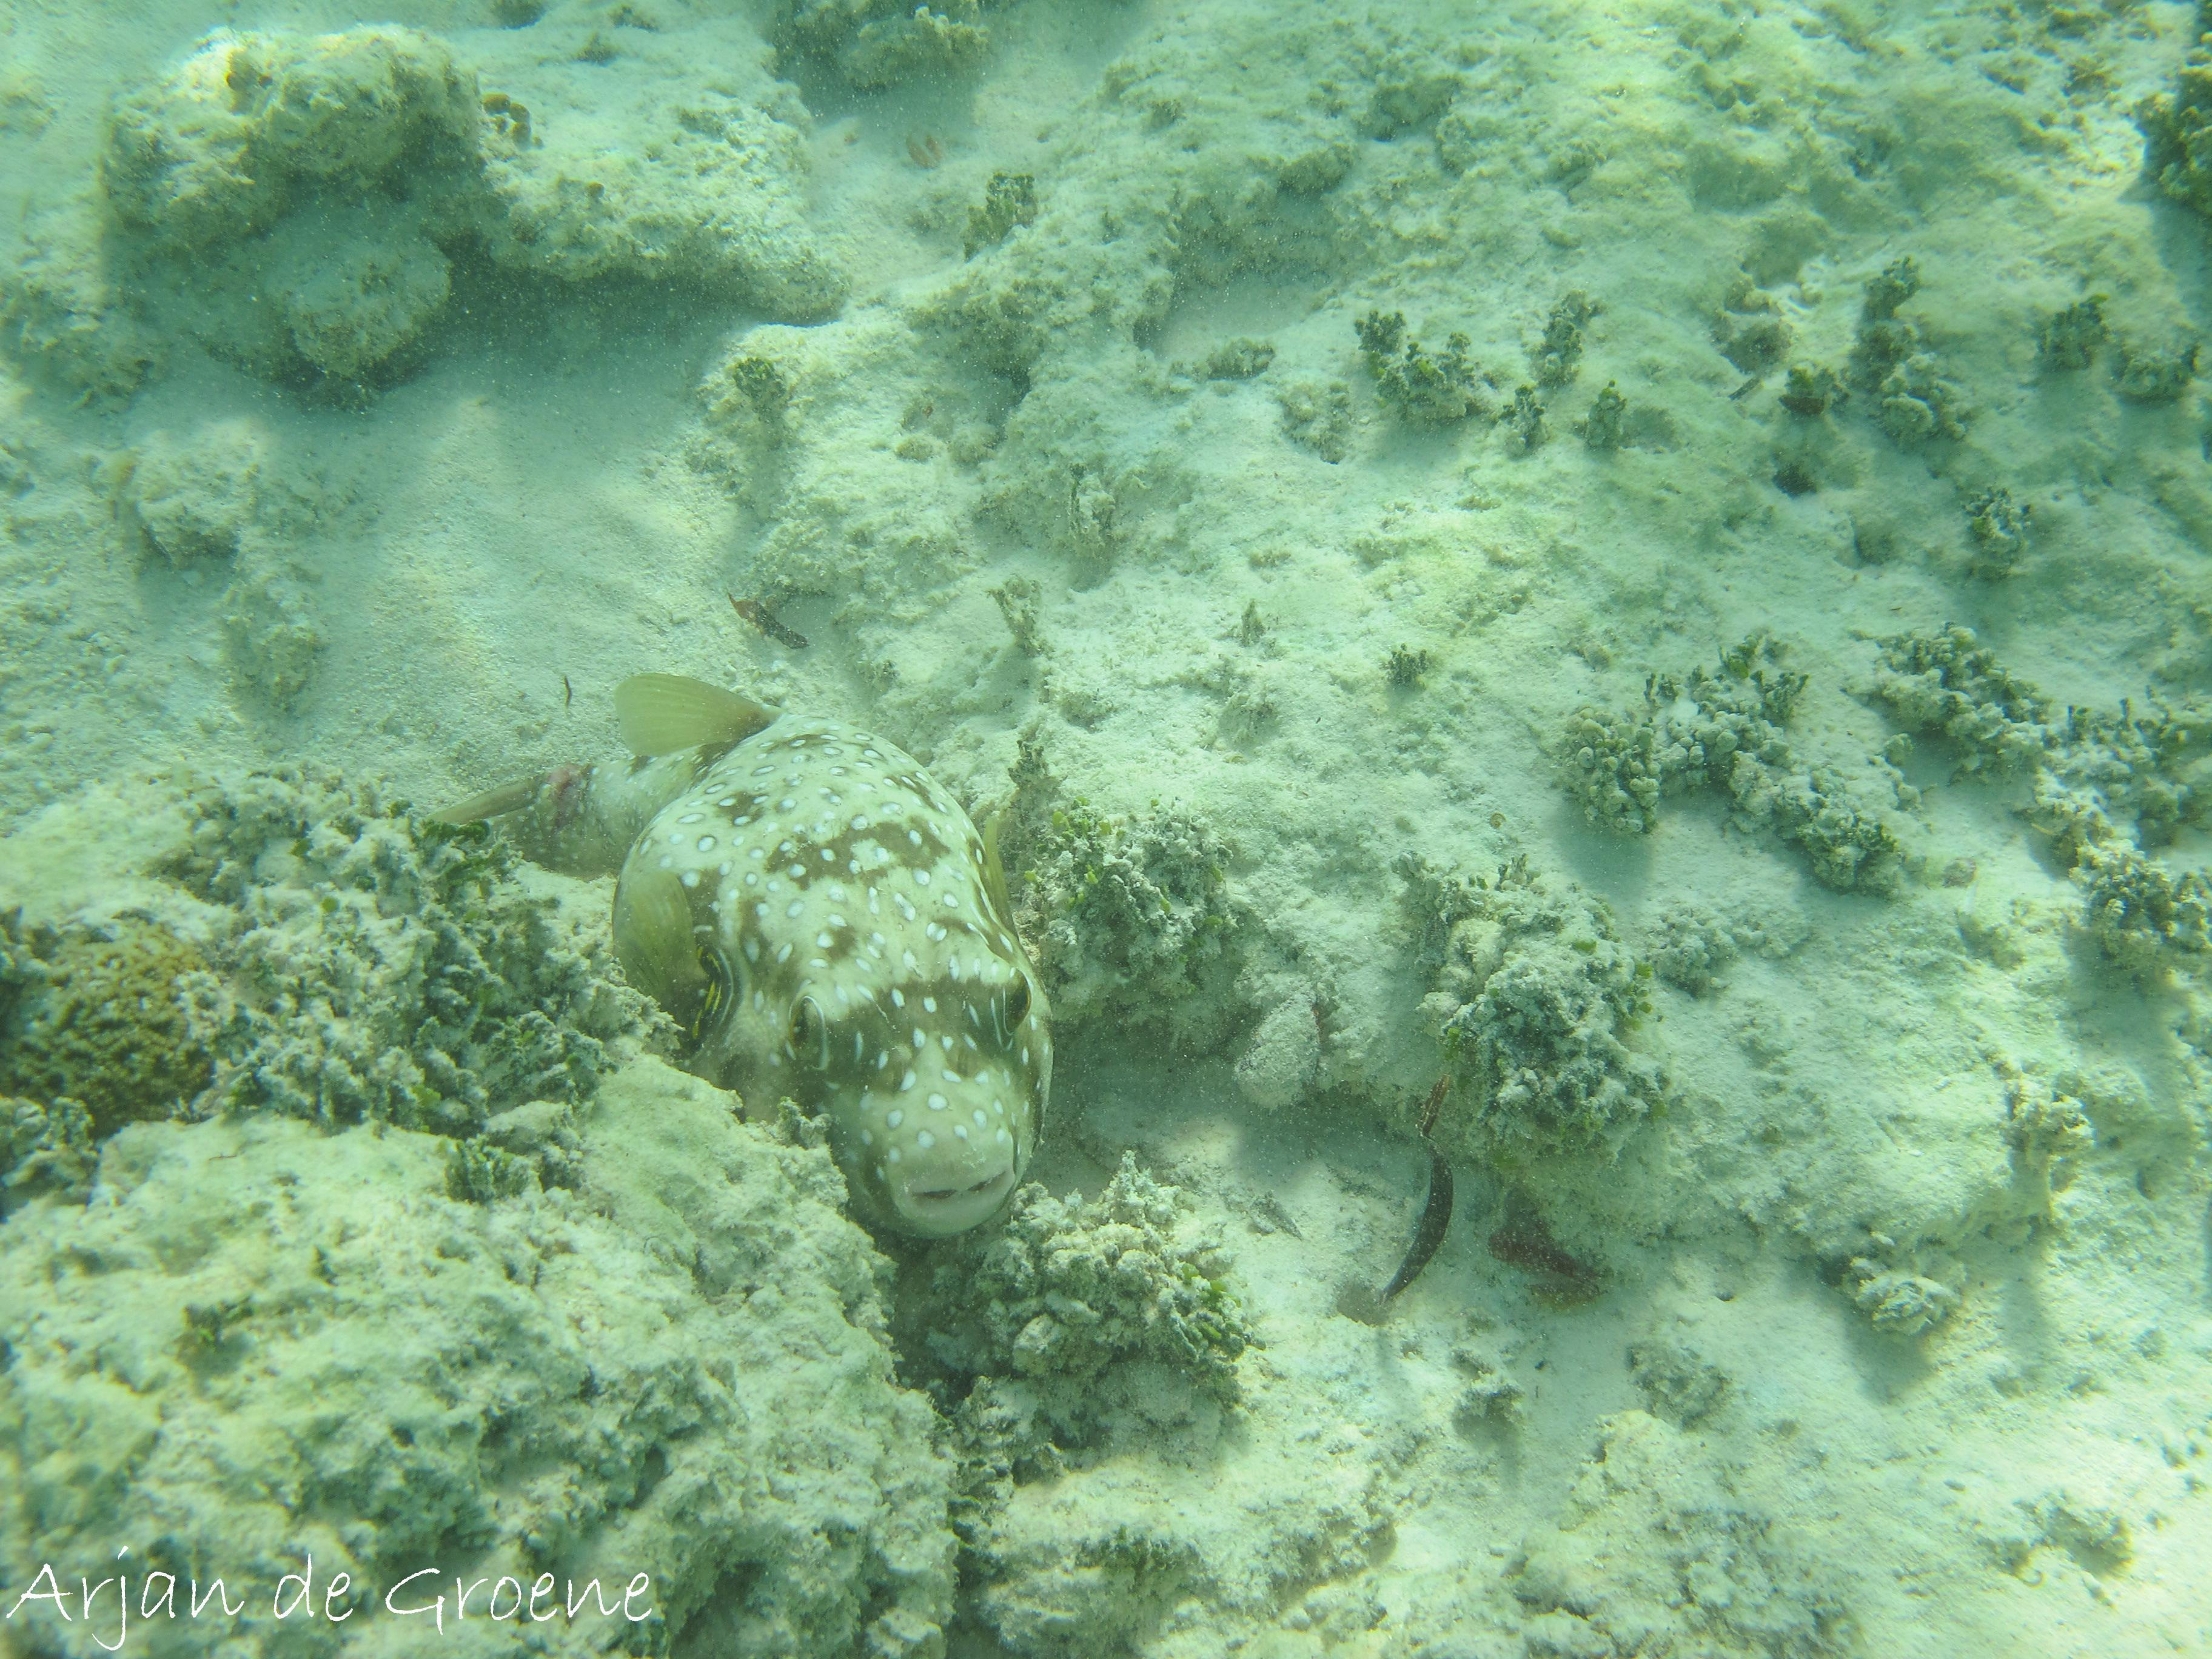Fish: (474, 594, 1174, 1331)
